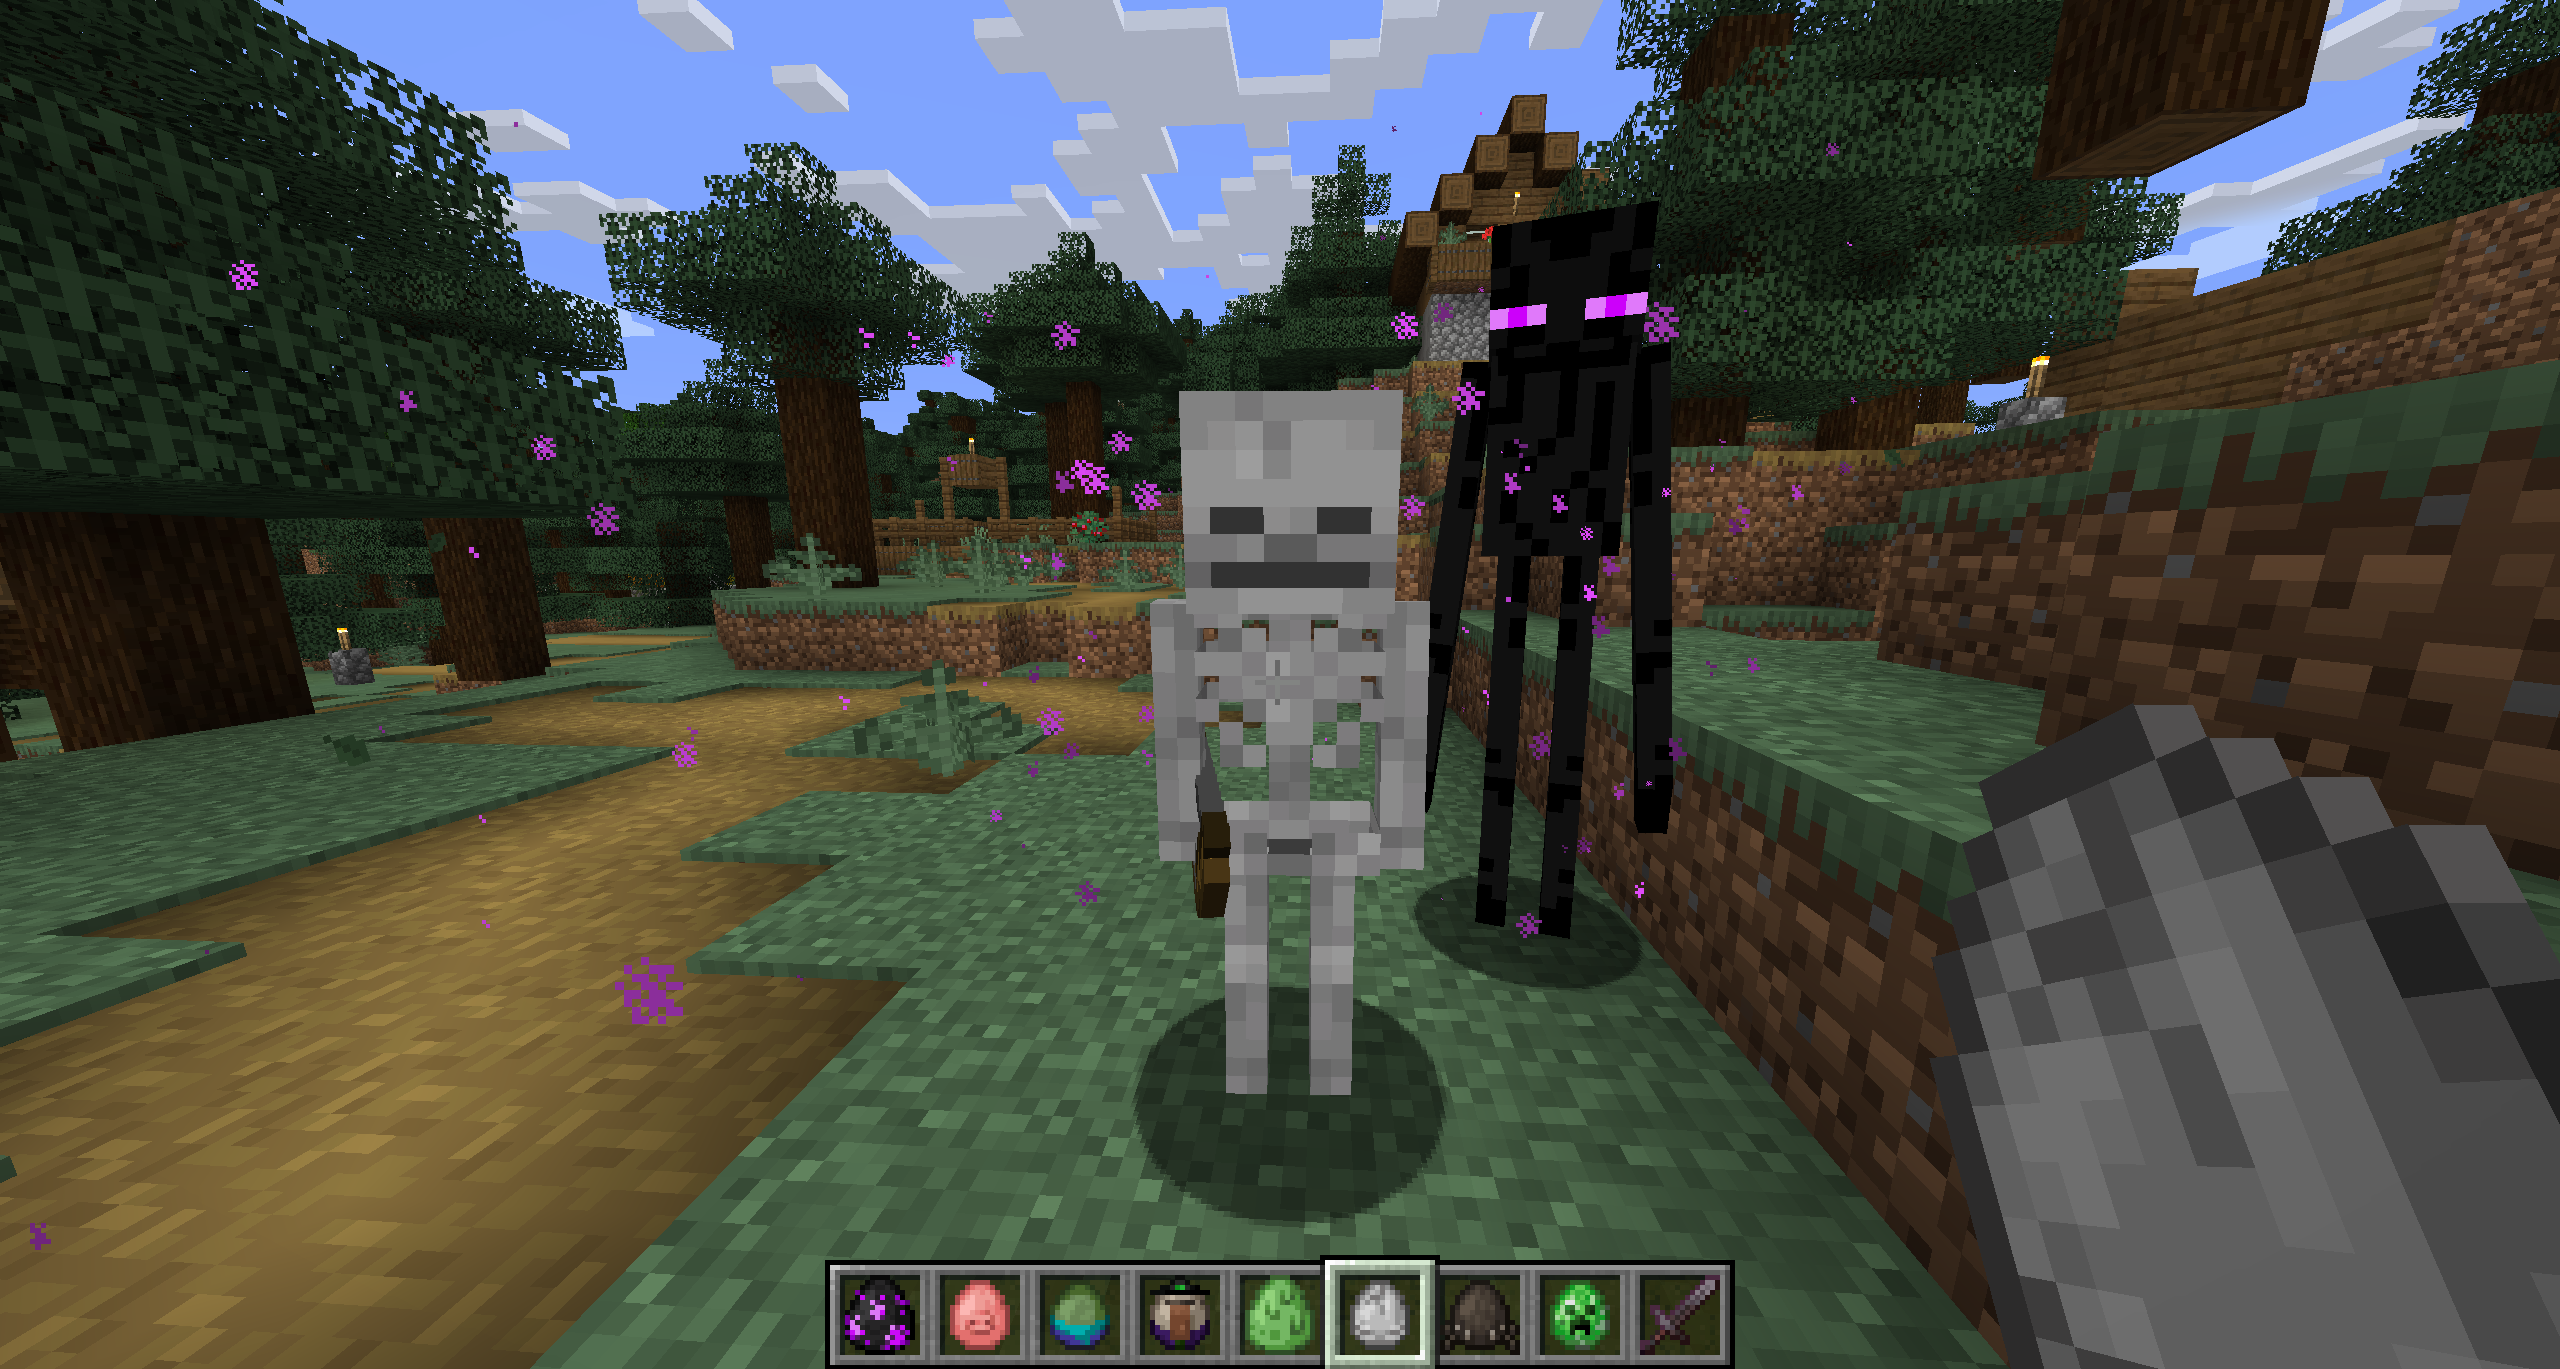endermens: (1432, 208, 1676, 961)
squelettes: (1145, 379, 1432, 1102)
